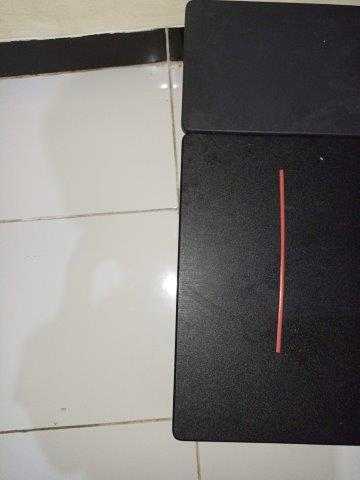sedotan: (276, 170, 285, 353)
